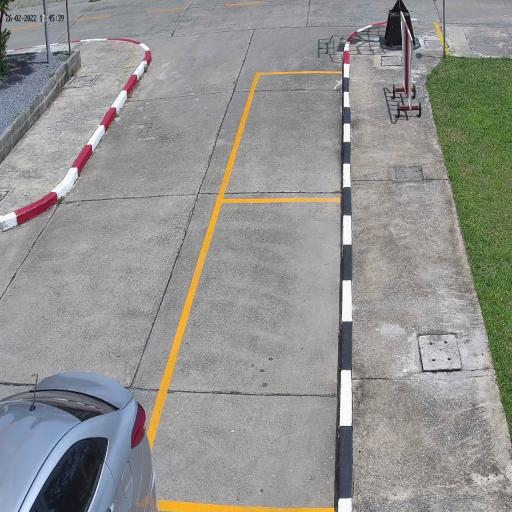car: (0, 370, 159, 512)
